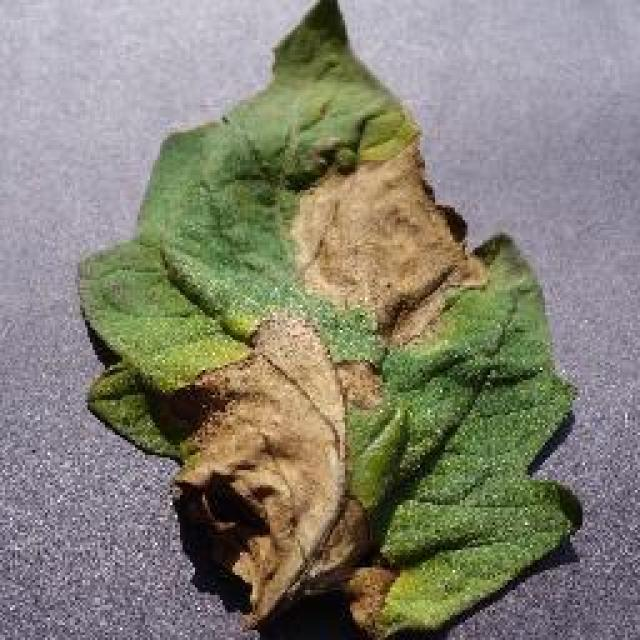Tomato Late Blight: (252, 153, 466, 597)
